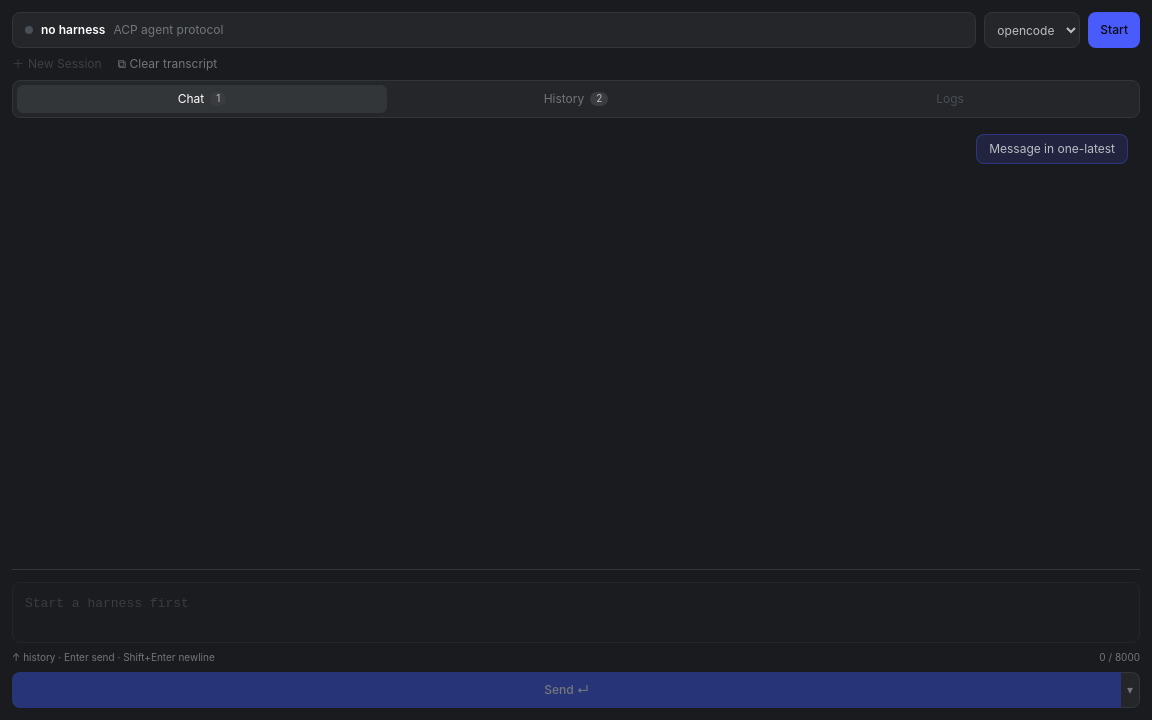
clearing the displayed agent transcript › keeps the target project when switching projects during clear
This screenshot has width=1152, height=720.
Click the button "⧉ Clear transcript": click(167, 64) left=118, top=56, right=217, bottom=72
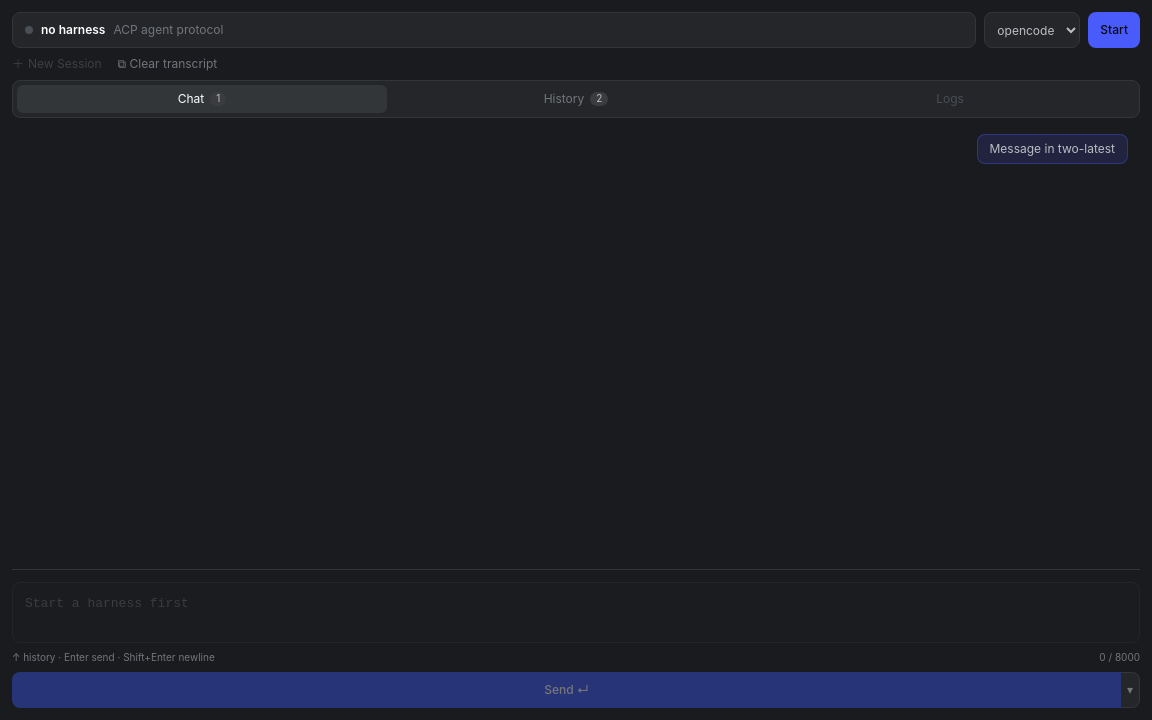
Expected: the text "Message in two-latest" is shown, left=976, top=134, right=1128, bottom=164
